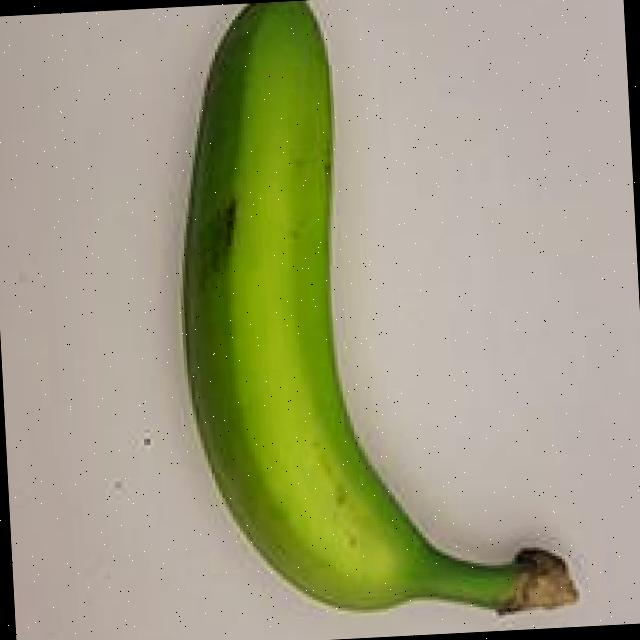Unripe: (93, 0, 621, 640)
